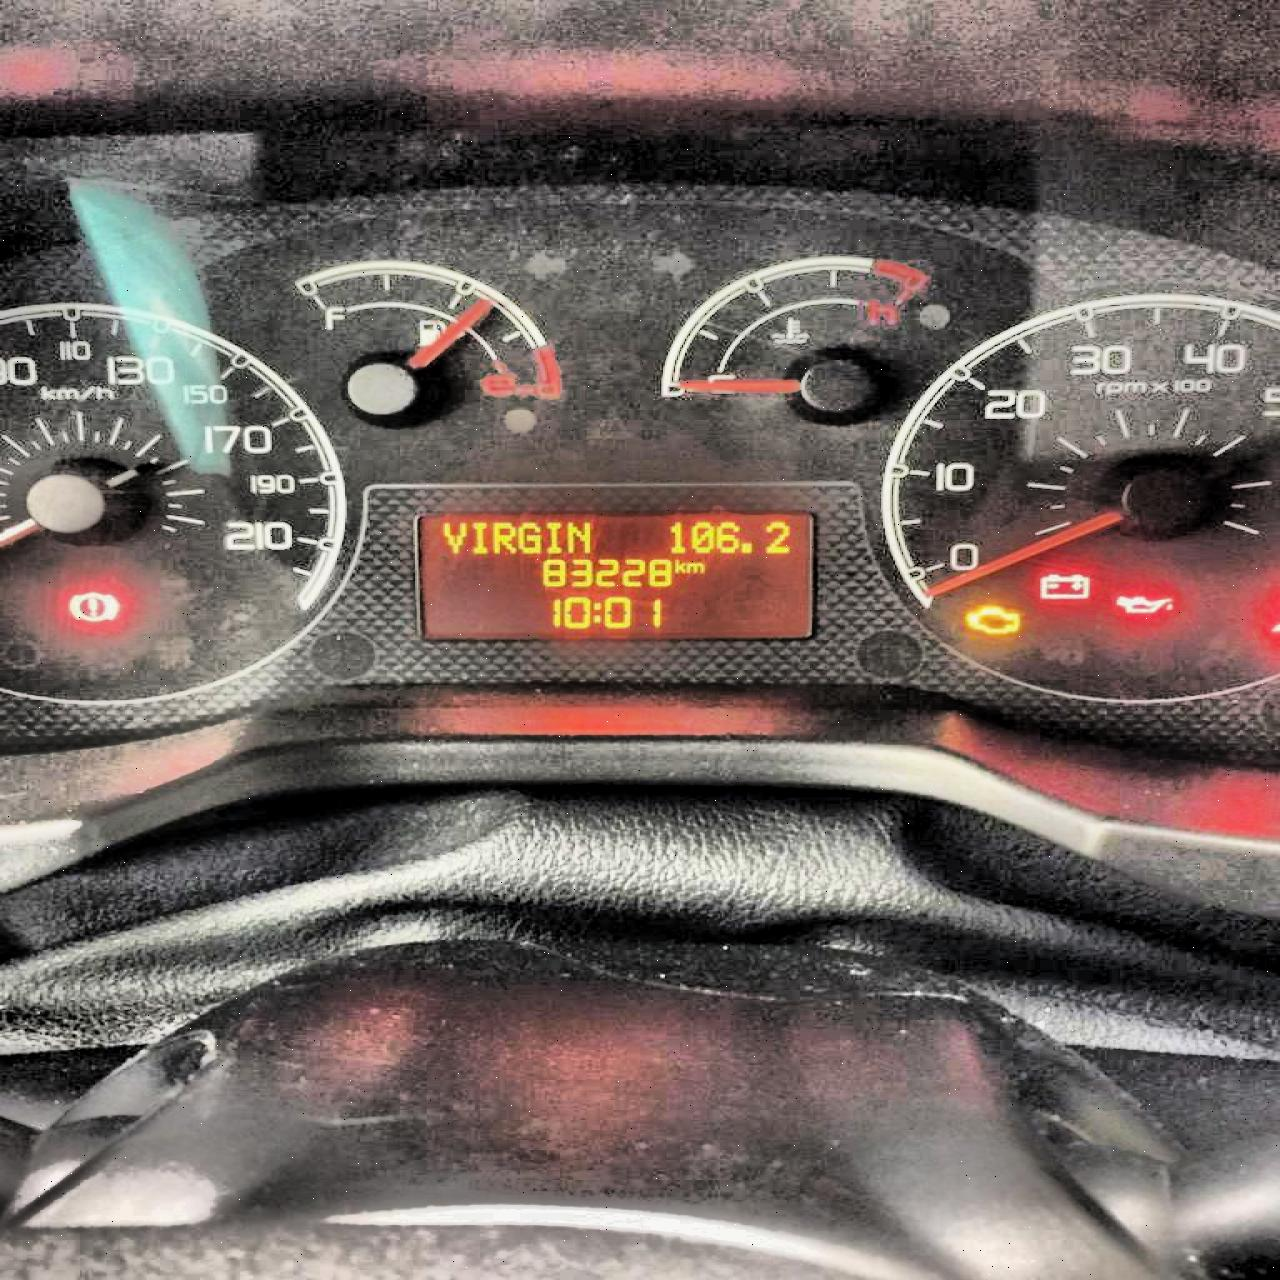-: (738, 539, 754, 554)
0: (601, 595, 631, 629), (560, 595, 590, 629), (688, 518, 714, 553)
1: (667, 517, 686, 552), (648, 595, 662, 629), (550, 597, 560, 628)
2: (762, 520, 791, 554), (620, 558, 645, 586), (594, 558, 618, 587)
3: (568, 558, 592, 586)
6: (715, 518, 740, 552)
8: (540, 558, 565, 586), (647, 558, 670, 586)
X: (438, 517, 469, 554), (564, 517, 590, 553), (490, 518, 515, 553), (515, 520, 538, 554), (468, 517, 486, 558), (543, 520, 560, 554), (685, 560, 704, 574), (672, 558, 686, 573), (592, 599, 600, 624)
odometer: (410, 506, 817, 642)
